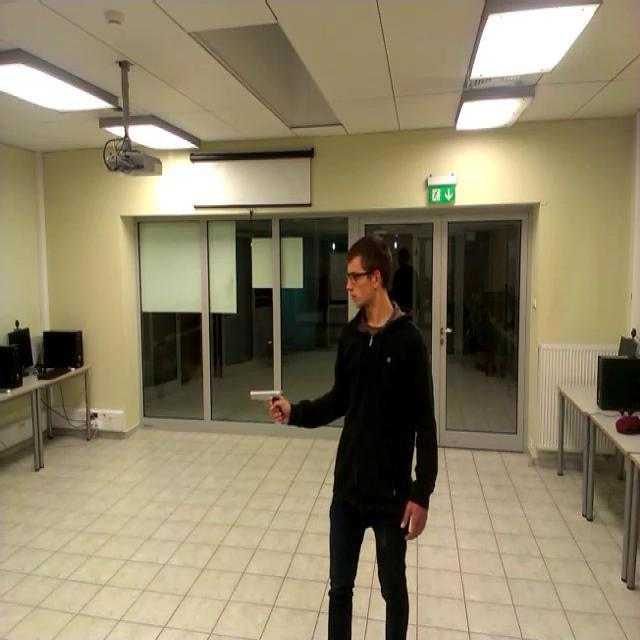weapon: (248, 392, 288, 423)
